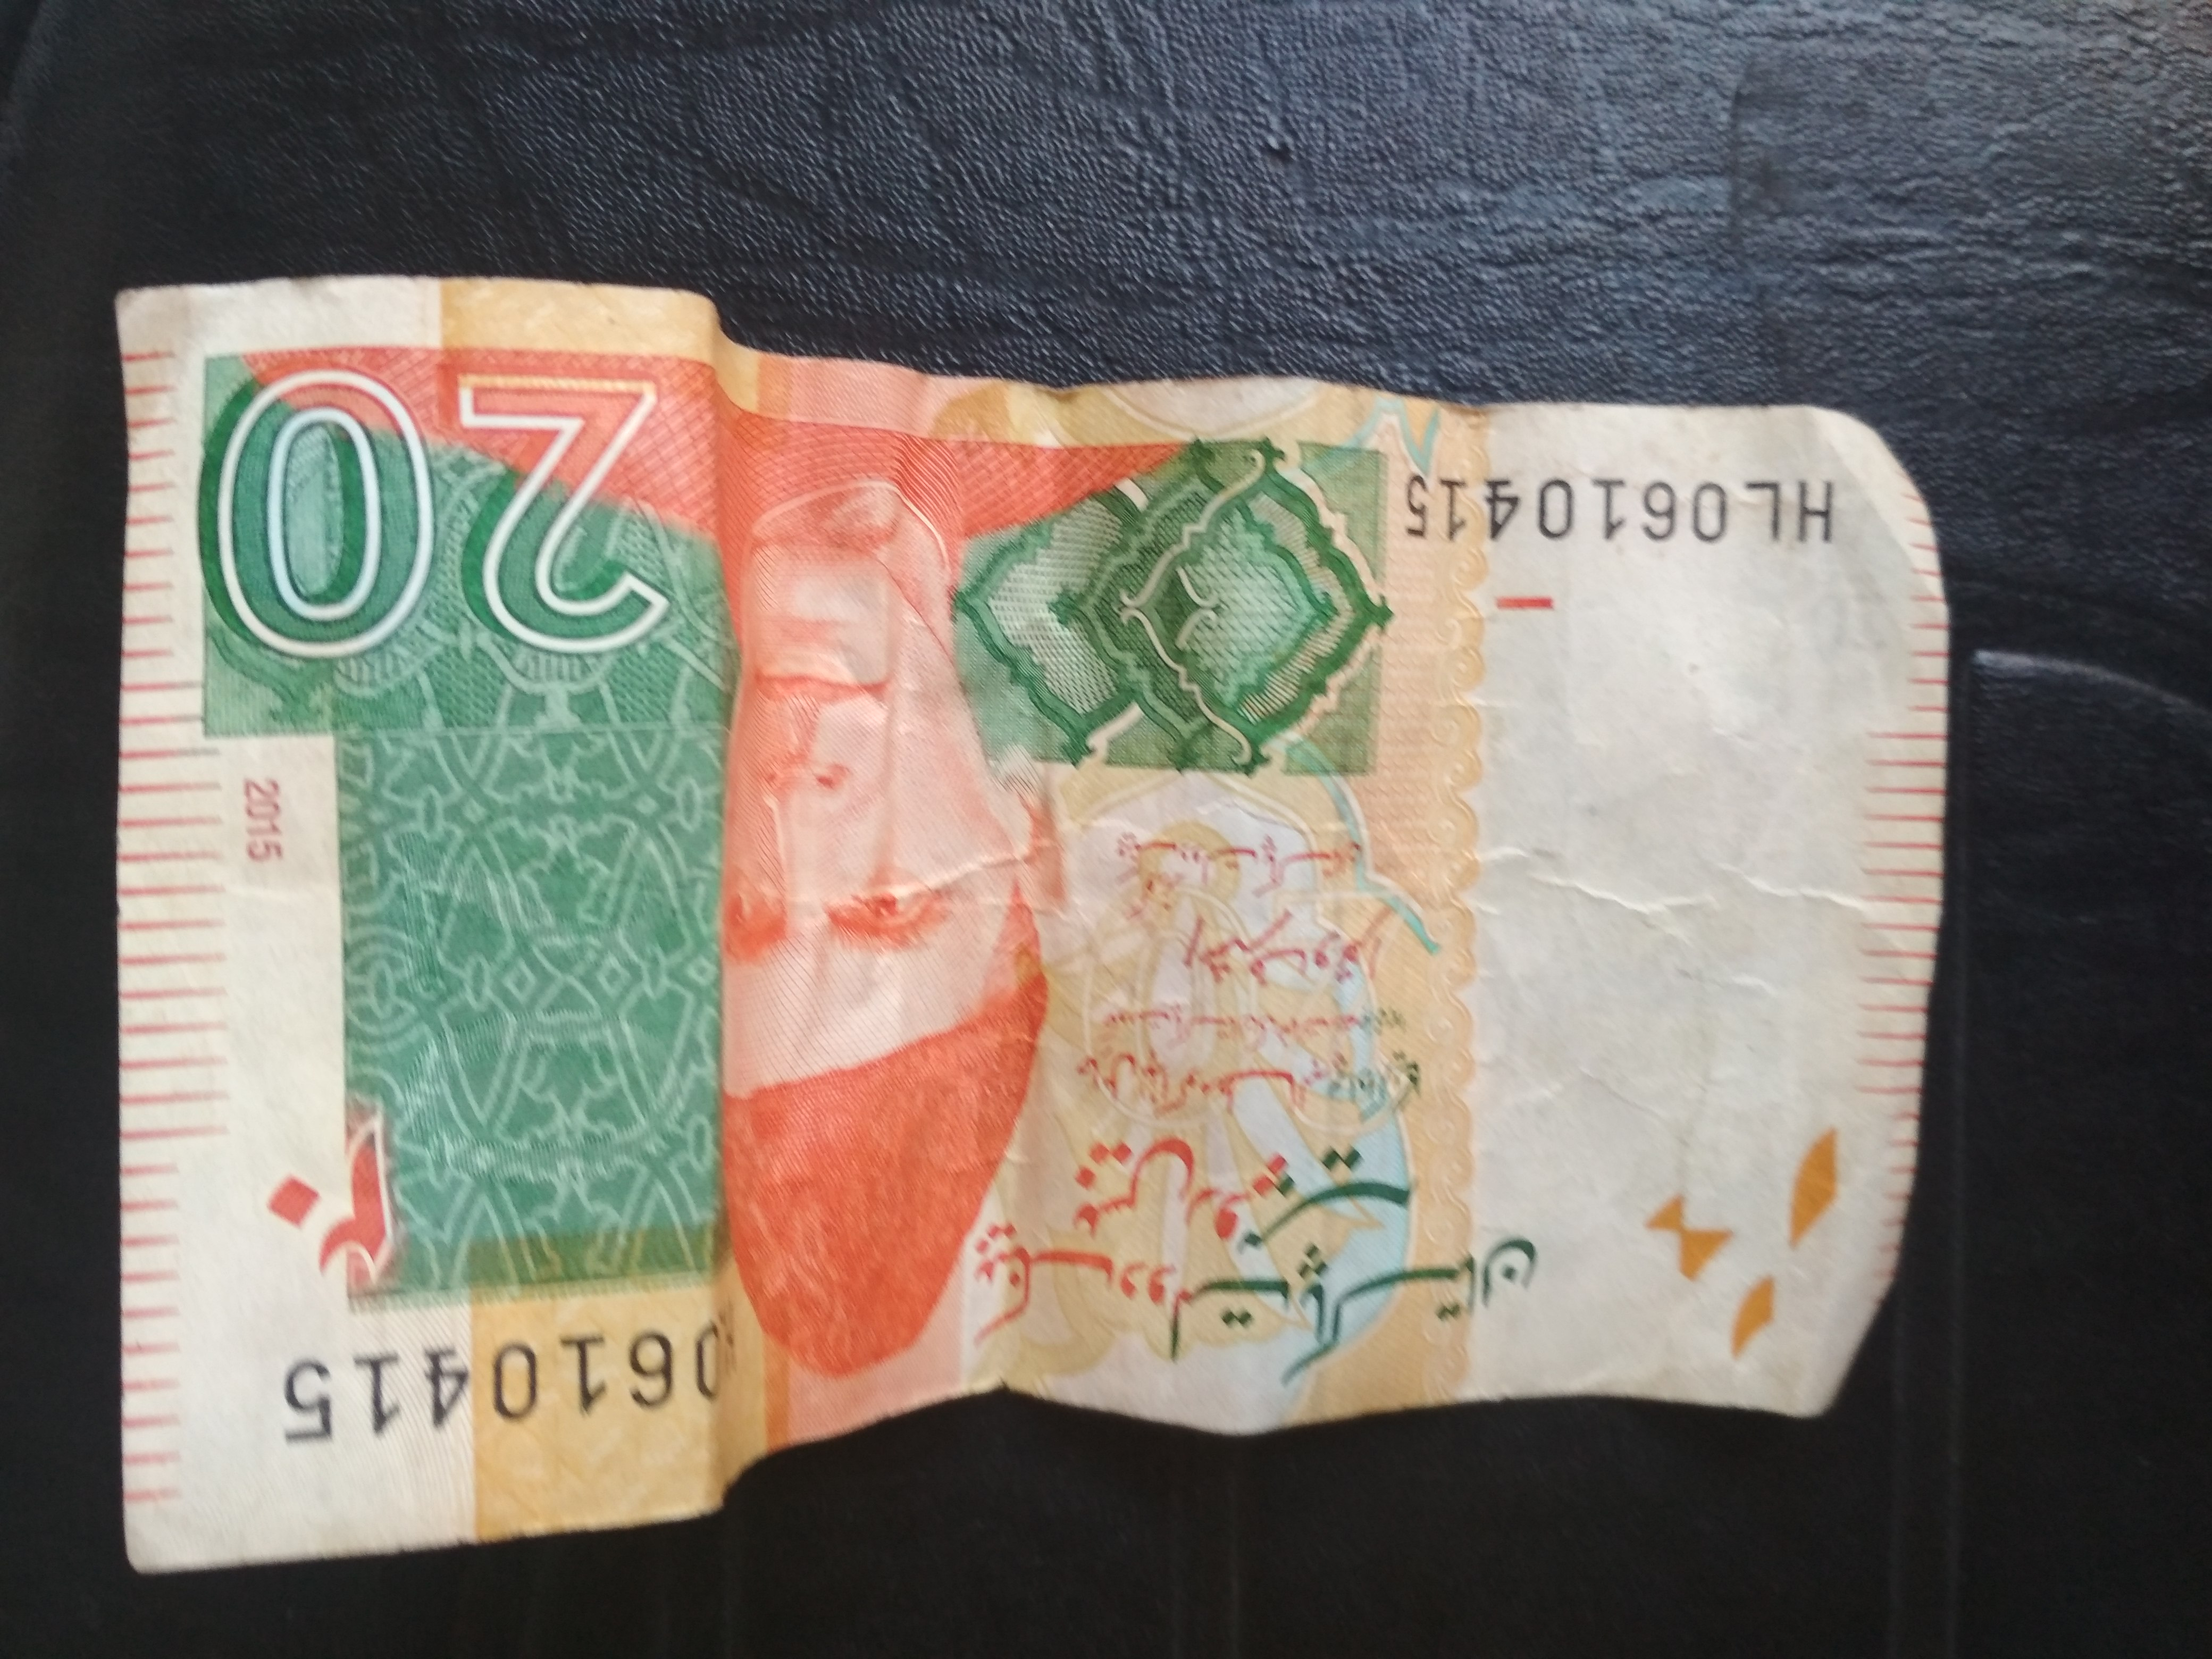20 rupee: (85, 265, 1946, 1577)
